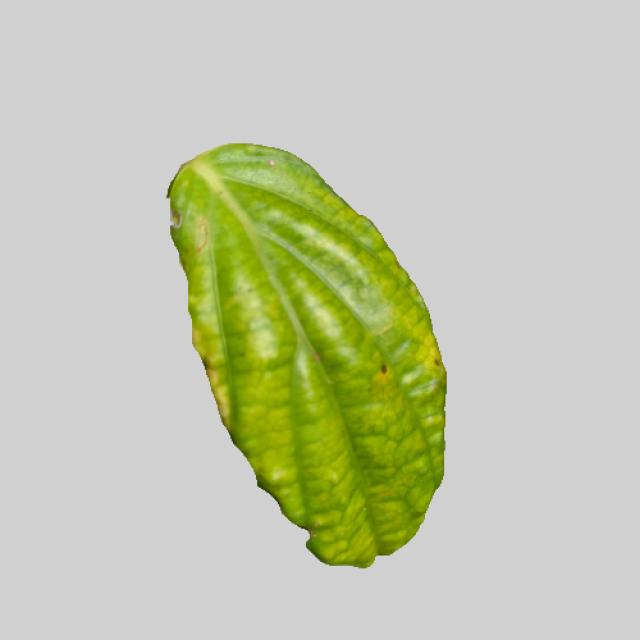yellow-mottle-virus: (156, 143, 449, 564)
